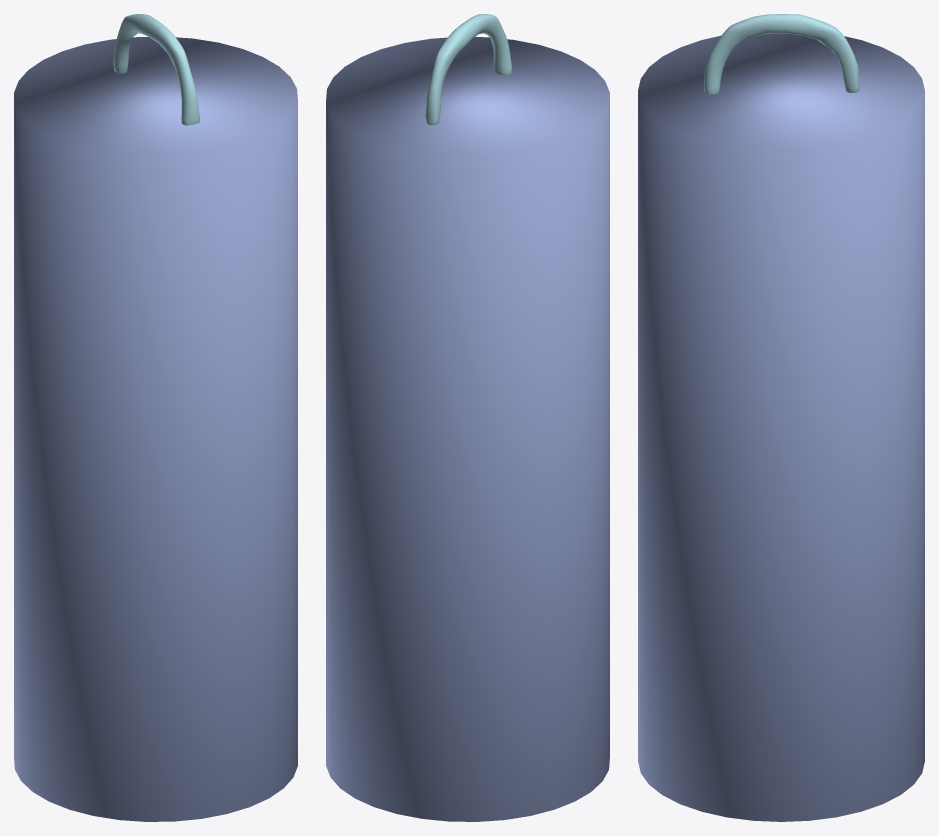
File: BatteryCell.fbx
3 views of the same model, side by side, from view 1: azimuth 30°, elevation 25°; view 2: azimuth 150°, elevation 25°; view 3: azimuth 270°, elevation 25° (orthographic).
Visible parts, largest first — view 1: Cylinder, Cube; view 2: Cylinder, Cube; view 3: Cylinder, Cube.
Part boxes in pixels (left/top/right/bottom): Cylinder: left=14, top=37, right=297, bottom=821; Cube: left=113, top=14, right=199, bottom=125; Cylinder: left=326, top=37, right=609, bottom=821; Cube: left=425, top=14, right=512, bottom=125; Cylinder: left=638, top=33, right=924, bottom=821; Cube: left=704, top=14, right=859, bottom=94.
Bounding box in the file's own units: 200 × 574 × 200.
